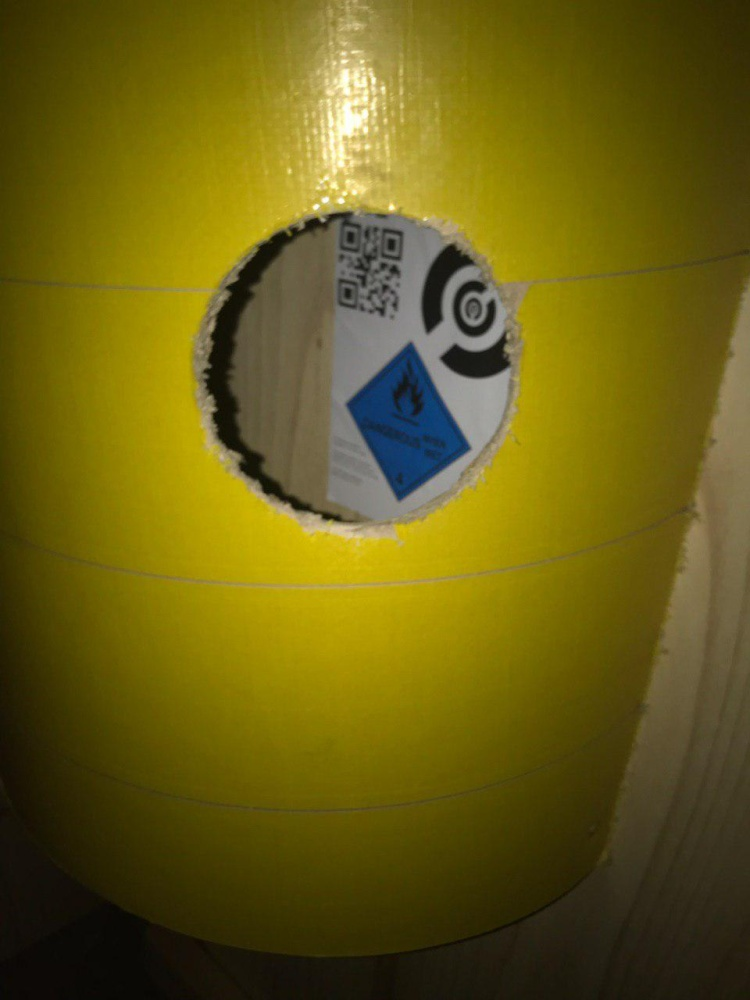Dangerous when wet: (346, 342, 470, 501)
